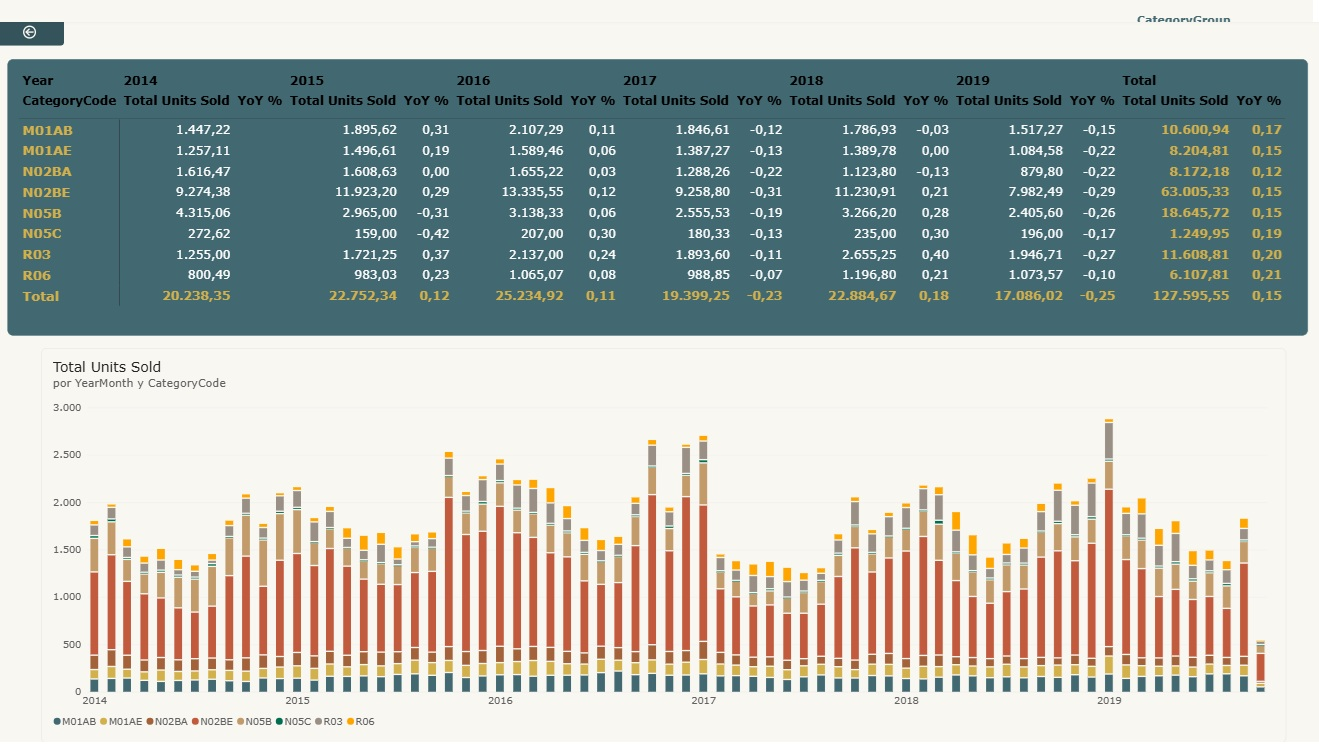

What the dashboard file says about the page in this screenshot:
{"tool":"powerbi","page":{"name":"Category & Trend","canvas":[1920,1080],"ordinal":2},"visuals":[{"type":"actionButton","box":[0,0,100,40],"z":1000},{"type":"columnChart","fields":{"Category":["DimDate.YearMonth"],"Series":["DimCategory.CategoryCode"],"Y":["Mesures.Total Units Sold"]},"box":[67,477.8,1802.4,571.9],"z":2000},{"type":"pivotTable","fields":{"Columns":["DimDate.Year"],"Rows":["DimCategory.CategoryCode"],"Values":["Mesures.Total Units Sold","Mesures.YoY %"]},"box":[18.1,59.7,1882,399.9],"z":4001}]}

Visuals, with their boxes in screenshot pixels (x1, y1, x2, y2), scaled from the page's 1920x1080 canvas onto the 1319x745 screenshot:
actionButton: x1=0 y1=0 x2=69 y2=28
columnChart - DimDate.YearMonth x DimCategory.CategoryCode: x1=46 y1=330 x2=1284 y2=724
pivotTable - DimDate.Year x DimCategory.CategoryCode: x1=12 y1=41 x2=1305 y2=317
